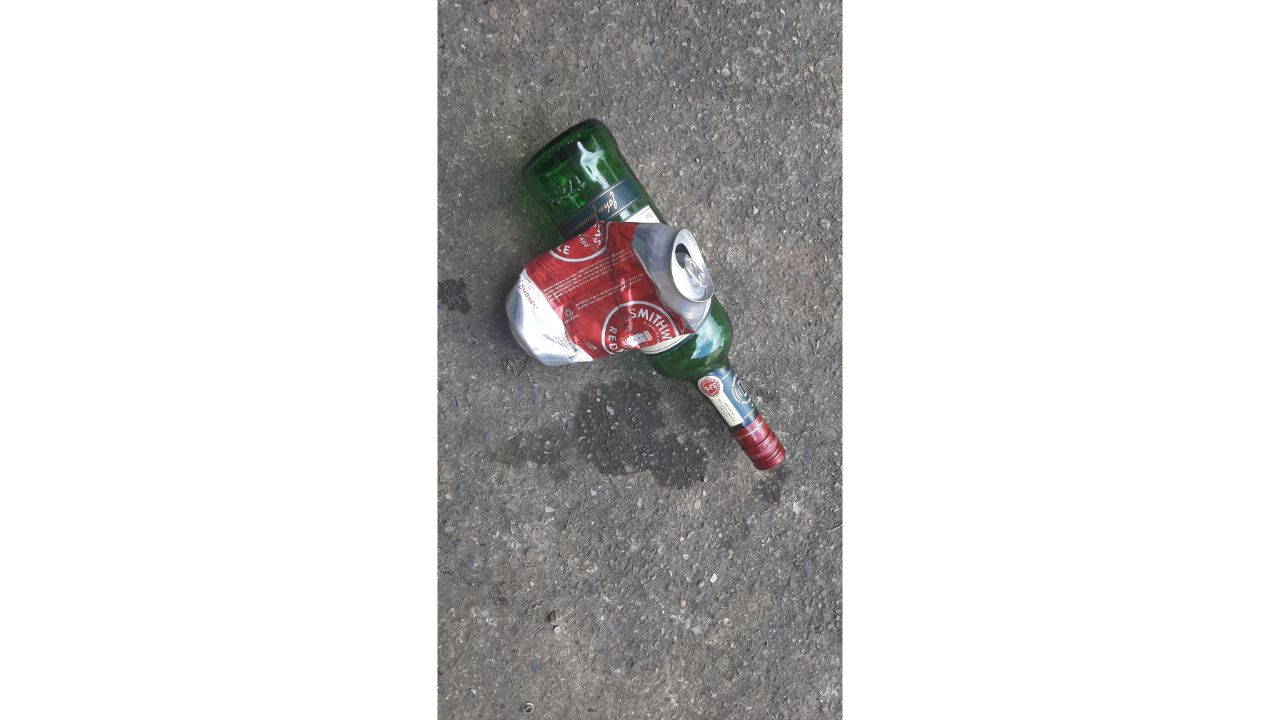Can: (495, 210, 726, 378)
